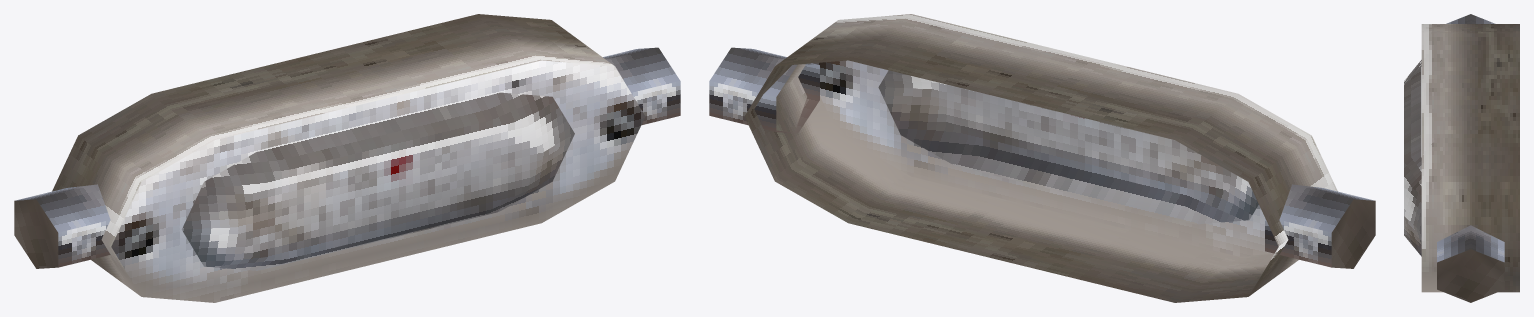
Rendered from electrical_junctionbox_small.gltf.
The picture shows the model from 3 angles, left to right: view 1: azimuth 30°, elevation 25°; view 2: azimuth 150°, elevation 25°; view 3: azimuth 270°, elevation 25°; orthographic projection. The views are drawn at different scales.
Parts seen in each view (by area): view 1: electrical_junctionbox_small; view 2: electrical_junctionbox_small; view 3: electrical_junctionbox_small.
Boxes of the visible parts, x1,y1,x2,y2 form: electrical_junctionbox_small: [14, 14, 680, 302]; electrical_junctionbox_small: [709, 14, 1375, 302]; electrical_junctionbox_small: [1404, 14, 1519, 302].
Size of the model in its own units: 0.1524 by 0.0381 by 0.0318.
1 material, 1 textured.
